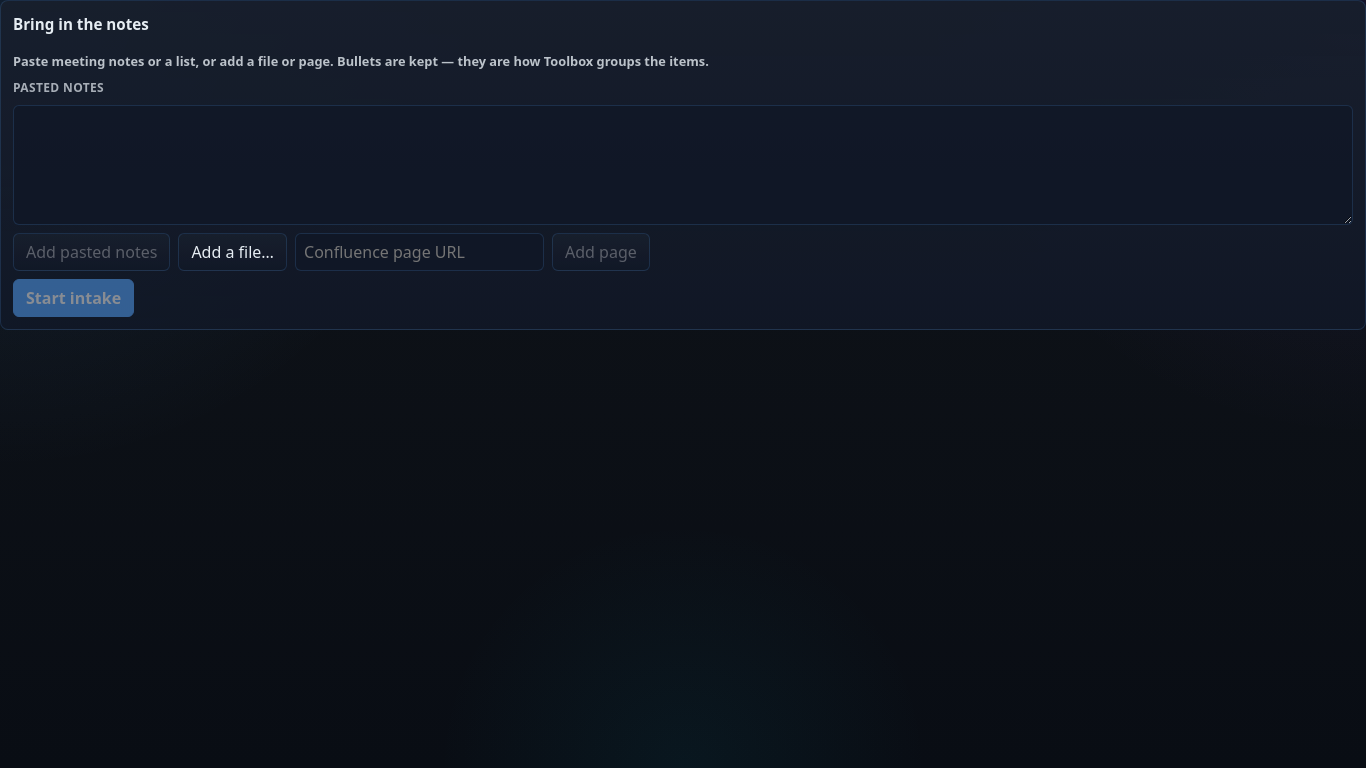
Scenario: IntakeNotesPanel › keeps Start disabled until a source has been added
Check: the button "Start intake" is disabled, box [13,279,134,317]
Type "Ship the portal" into the text box labelled "Pasted notes".
click(683, 165); type("Ship the portal")  # box [13,105,1353,225]
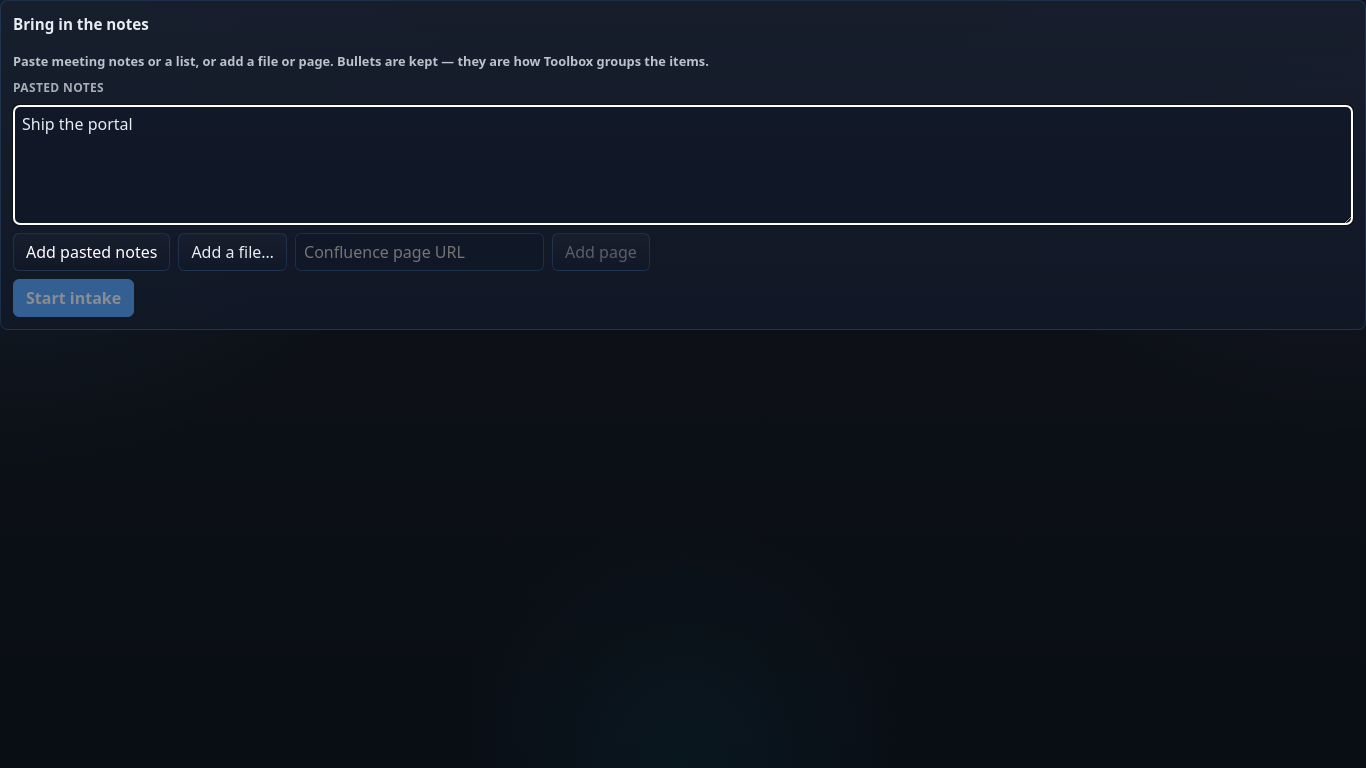
Click the button "Add pasted notes".
click(92, 252)  # box [13,233,170,271]
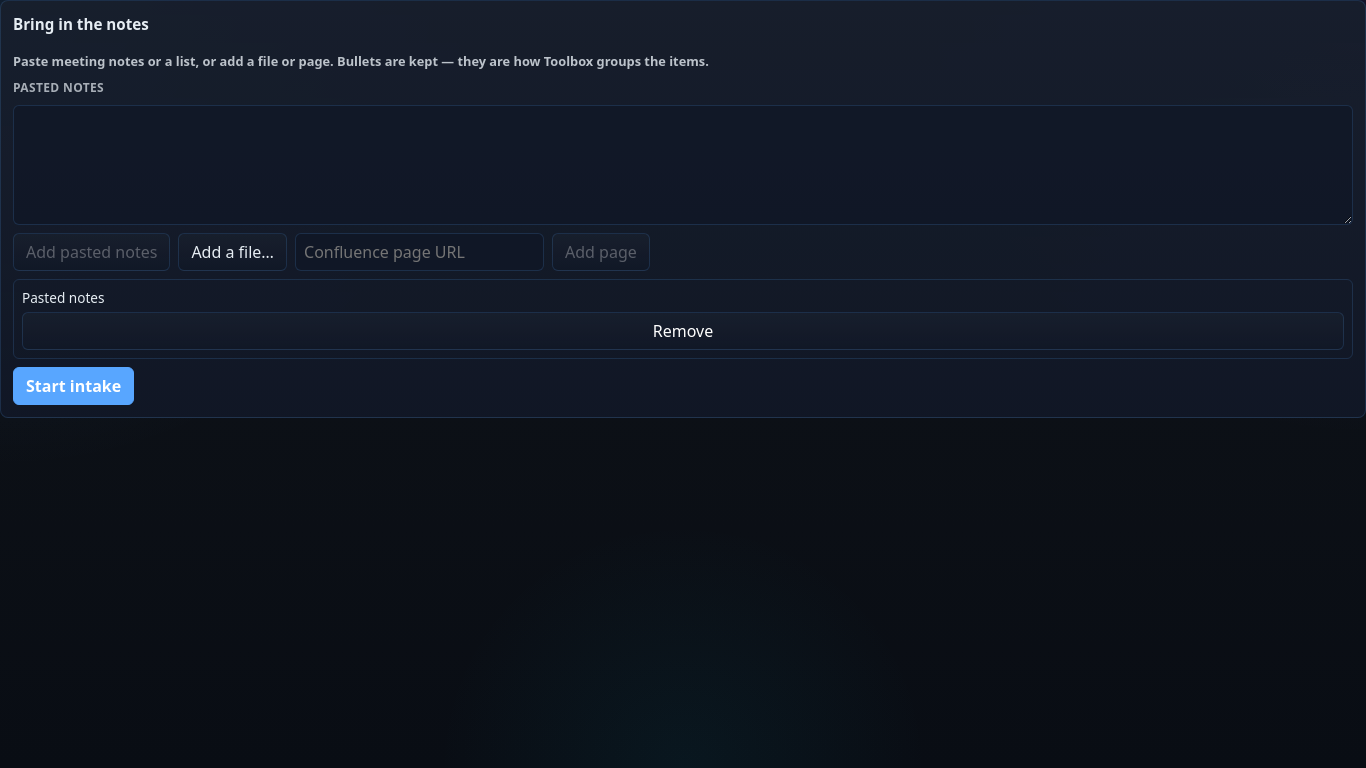
Check: the button "Start intake" is enabled, box [13,367,134,405]
